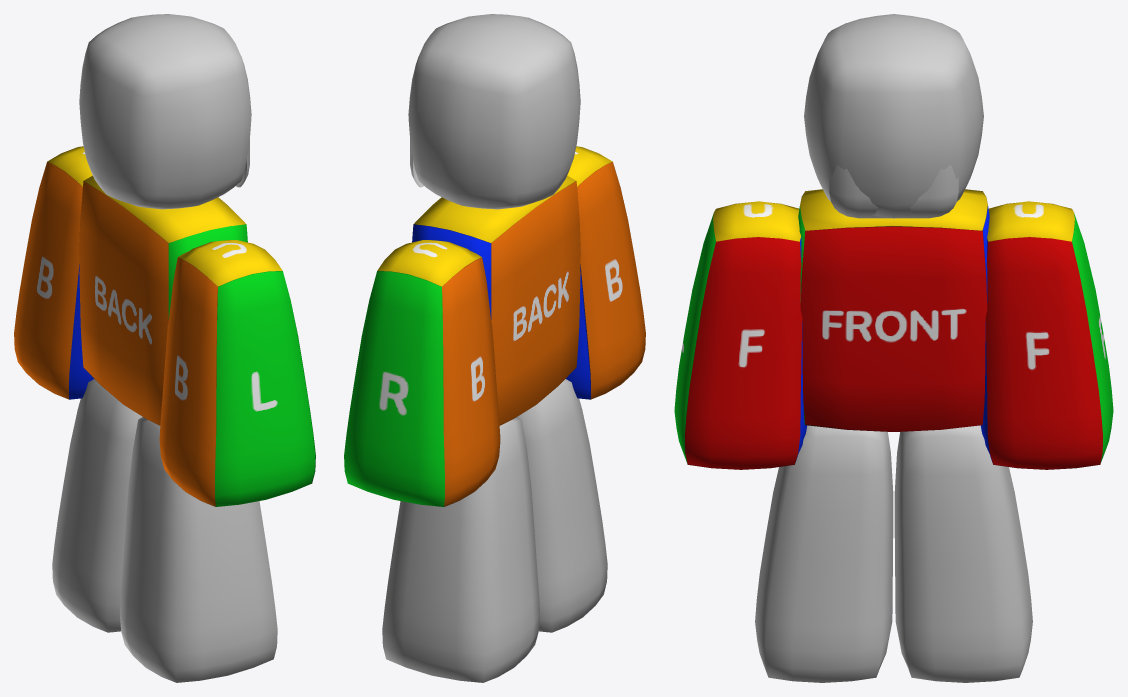
Rendered from avatar.obj.
3 renders of one model, left to right at view 1: azimuth 30°, elevation 25°; view 2: azimuth 150°, elevation 25°; view 3: azimuth 270°, elevation 25°, orthographic. The views are drawn at different scales.
Visible parts, largest first — view 1: left_arm, head, left_leg, torso, right_leg, right_arm; view 2: right_arm, head, right_leg, torso, left_leg, left_arm; view 3: torso, right_leg, left_leg, left_arm, right_arm, head, face_Cube.018.
Boxes of the visible parts, bbox=[...] form: left_arm: bbox=[159, 240, 315, 506]; head: bbox=[79, 14, 251, 209]; left_leg: bbox=[119, 417, 277, 682]; torso: bbox=[79, 175, 247, 425]; right_leg: bbox=[52, 379, 142, 632]; right_arm: bbox=[14, 146, 93, 399]; right_arm: bbox=[344, 240, 500, 506]; head: bbox=[408, 14, 580, 209]; right_leg: bbox=[382, 417, 540, 682]; torso: bbox=[412, 175, 580, 425]; left_leg: bbox=[517, 379, 607, 632]; left_arm: bbox=[566, 146, 645, 399]; torso: bbox=[798, 189, 989, 431]; right_leg: bbox=[894, 425, 1032, 682]; left_leg: bbox=[755, 425, 893, 682]; left_arm: bbox=[674, 201, 807, 469]; right_arm: bbox=[980, 201, 1113, 469]; head: bbox=[804, 14, 983, 218]; face_Cube.018: bbox=[829, 165, 958, 218].
Bounding box in the file's own units: 2.41 × 9.61 × 6.03.
